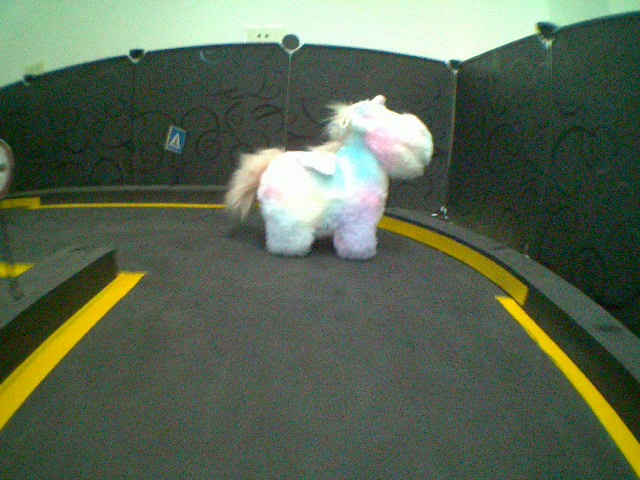unicorn: (230, 93, 434, 261)
